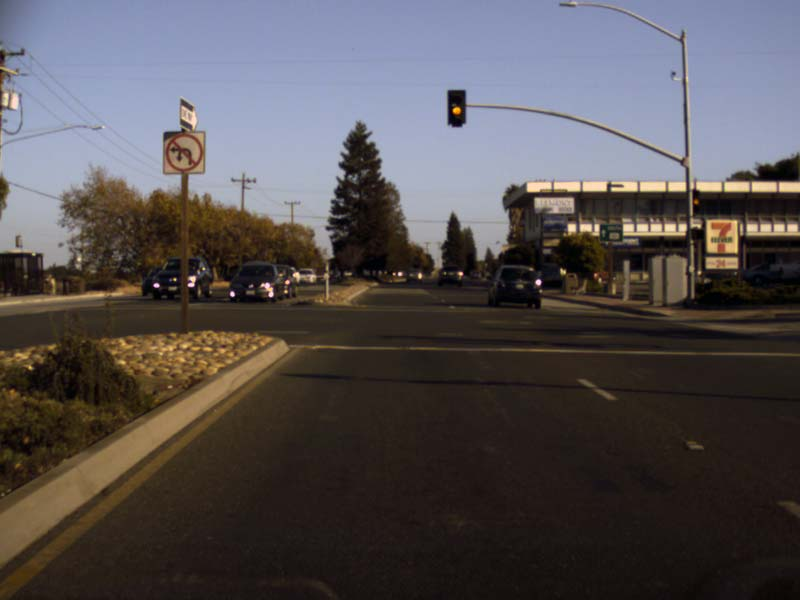Yellow: (446, 88, 466, 127), (691, 189, 702, 212)
